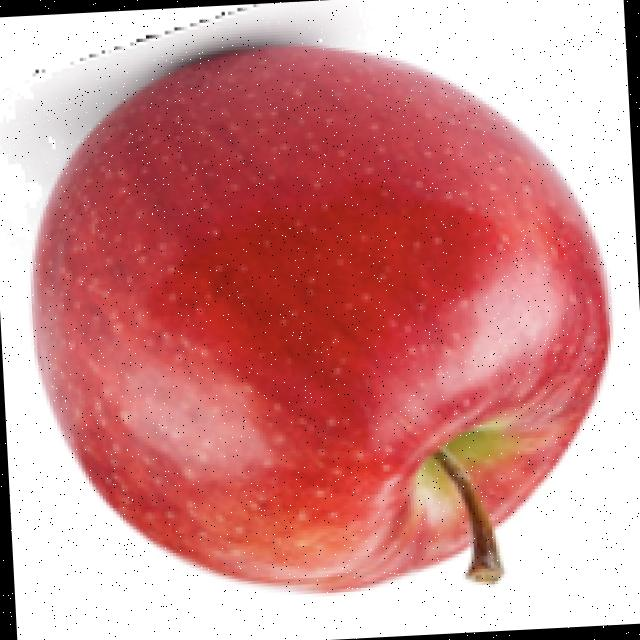apple: (0, 6, 618, 599)
